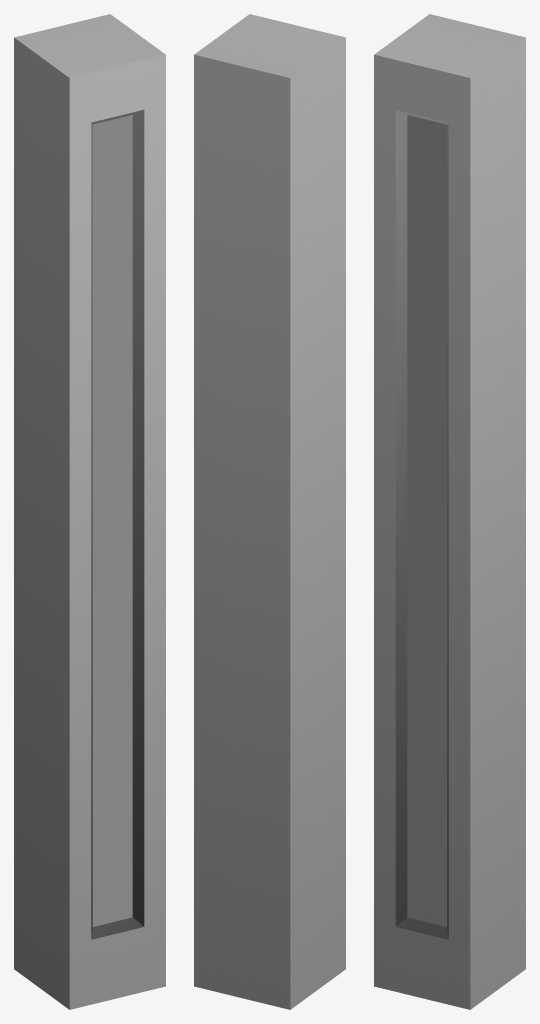
Rendered from Museum_Door_Pillar.fbx.
3 views of the same model, side by side, from view 1: azimuth 30°, elevation 25°; view 2: azimuth 150°, elevation 25°; view 3: azimuth 330°, elevation 25° (orthographic).
Visible parts, largest first — view 1: Cube; view 2: Cube; view 3: Cube.
Part boxes in pixels (x1,y1,x2,y2): Cube: (14, 14, 165, 1009); Cube: (194, 14, 345, 1009); Cube: (374, 14, 525, 1009).
Bounding box in the file's own units: 0.304 × 2.81 × 0.304.
